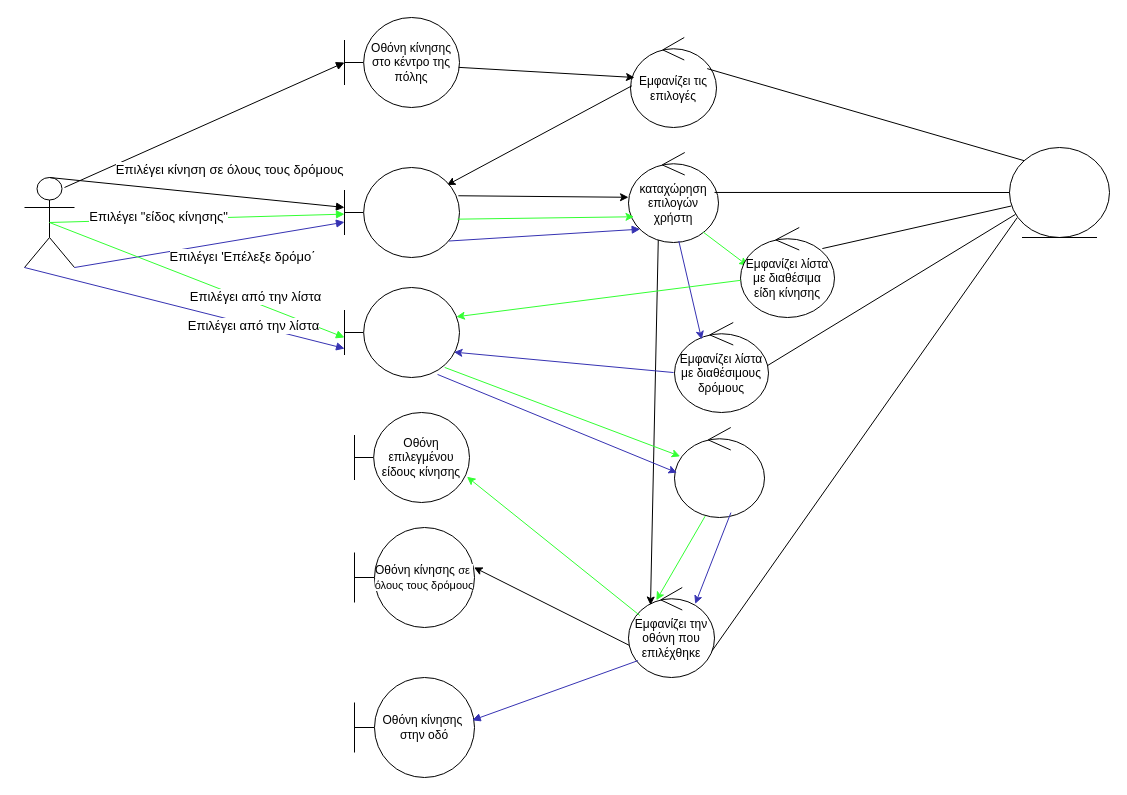
Image size: 1127x795. Some labels were removed from this diagram. The centre of each missing label's shape, as x and y in pixels:
"Βάση CityZen" belongs at point (1059, 192).
"καταχώρηση επιλογών χρήστη στην λίστα" belongs at point (719, 472).
"Οθόνη εμφάνισης λίστας" belongs at point (402, 332).
"Οθόνη κίνησης στο κέντρο της πόλης + επιλογές" belongs at point (402, 212).
"Χρήστης" belongs at point (49, 222).
